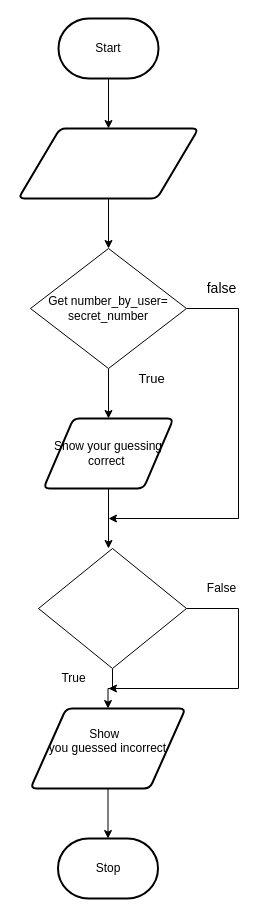
The diagram is 264 pixels wide and 916 high, and some of its shapes have lost their labels. The shapes that lost their labels are listed below. From the top down, each one's box as (x1, y1, x2, y2) in pixels, then its label:
(17, 127, 199, 199): Get number_by_user 0-9
(38, 548, 186, 668): If Get number_by_user does not = hidden_number
